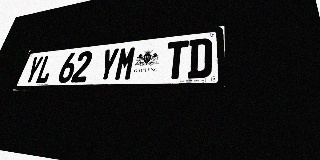2: (71, 50, 94, 83)
6: (56, 52, 79, 83)
D: (187, 38, 212, 79)
L: (34, 54, 56, 84)
M: (113, 46, 137, 81)
T: (164, 40, 189, 79)
Y: (96, 47, 120, 82), (23, 56, 44, 84)
